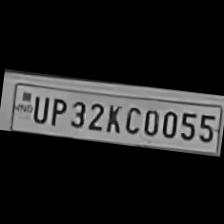0: (139, 102, 162, 134), (158, 105, 180, 137)
2: (84, 96, 106, 130)
3: (64, 94, 88, 128)
5: (194, 108, 218, 142), (176, 106, 198, 140)
C: (120, 101, 143, 134)
K: (102, 98, 124, 132)
P: (46, 92, 68, 126)
U: (28, 90, 50, 122)
